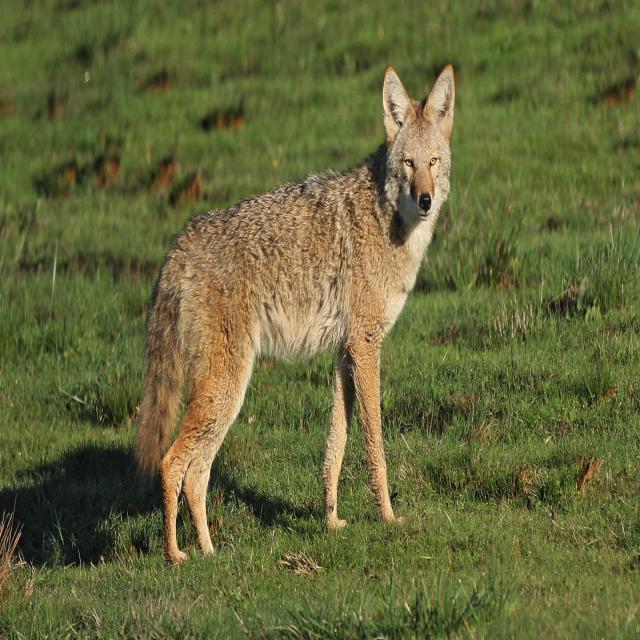coyote: (137, 65, 455, 562)
